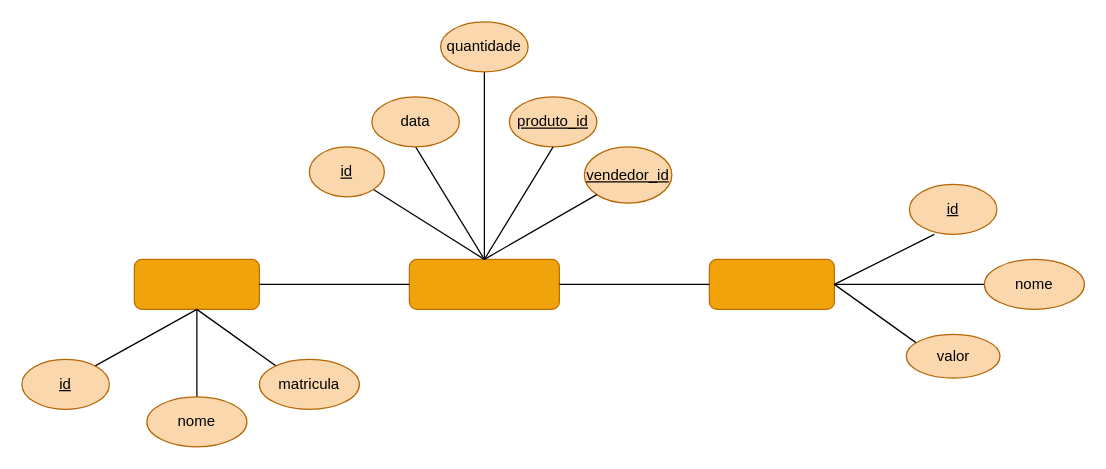
Some shapes in this 1106 by 469 pixel diagram are drawn without their labels. Here are the shapes that lost their labels. From the top down, the centre of each, then its label:
(196,283): vendedores
(483,283): vendas
(771,283): produtos
